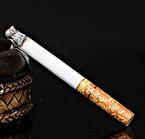smoke: (5, 25, 135, 126)
